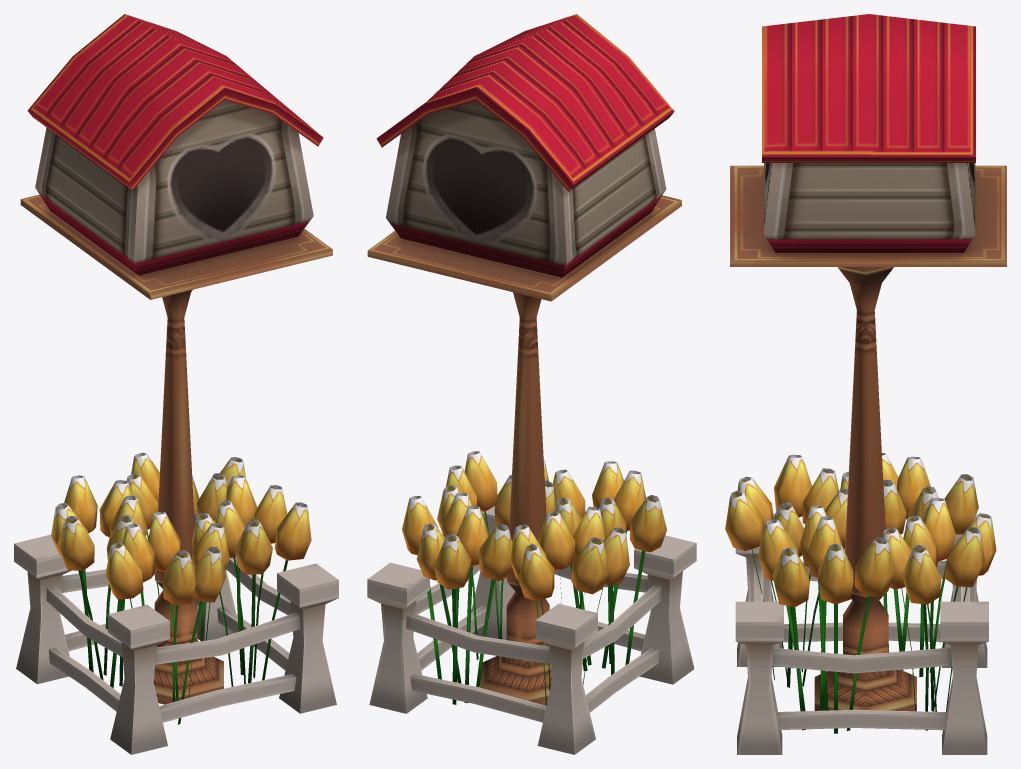
File: BirdNet.FBX
3 renders of one model, left to right at view 1: azimuth 30°, elevation 25°; view 2: azimuth 150°, elevation 25°; view 3: azimuth 270°, elevation 25°, orthographic. The views are drawn at different scales.
Visible parts, largest first — view 1: BirdNet; view 2: BirdNet; view 3: BirdNet.
Part boxes in pixels (x1,y1,x2,y2): BirdNet: (14, 14, 338, 754); BirdNet: (367, 14, 696, 754); BirdNet: (725, 14, 1006, 754).
Bounding box in the file's own units: 0.6024 × 1.78 × 0.6593.
